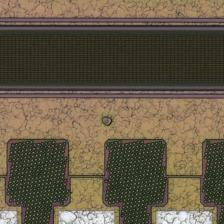COATING BAD: (99, 113, 115, 129)
